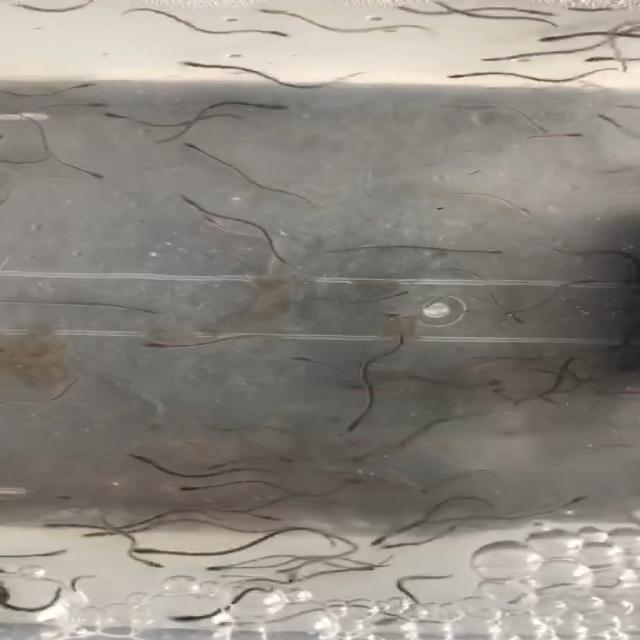active_glass_eel: (550, 484, 595, 510), (488, 298, 530, 322), (162, 609, 210, 630), (284, 354, 329, 376), (61, 96, 112, 115), (133, 299, 166, 324), (226, 62, 266, 82), (367, 378, 405, 399), (59, 80, 108, 96), (58, 167, 106, 182), (501, 272, 532, 295), (552, 123, 587, 143), (161, 192, 204, 208), (181, 216, 232, 229), (96, 109, 140, 124), (128, 334, 166, 351), (28, 518, 66, 535), (310, 423, 343, 442), (260, 26, 299, 42), (179, 478, 210, 498), (144, 415, 178, 433), (199, 458, 235, 475), (323, 254, 356, 272), (443, 65, 479, 81), (527, 120, 559, 138), (580, 54, 618, 69), (387, 4, 430, 17), (554, 276, 580, 297), (405, 296, 435, 314), (470, 245, 511, 258), (187, 564, 226, 577), (379, 538, 415, 552), (120, 452, 161, 464), (338, 414, 368, 430), (246, 98, 286, 110), (534, 31, 562, 47), (250, 6, 287, 18), (9, 400, 32, 419), (455, 180, 478, 199), (177, 140, 208, 154), (48, 546, 78, 560), (361, 536, 391, 550), (382, 288, 410, 303), (229, 563, 257, 576), (142, 558, 166, 572)
